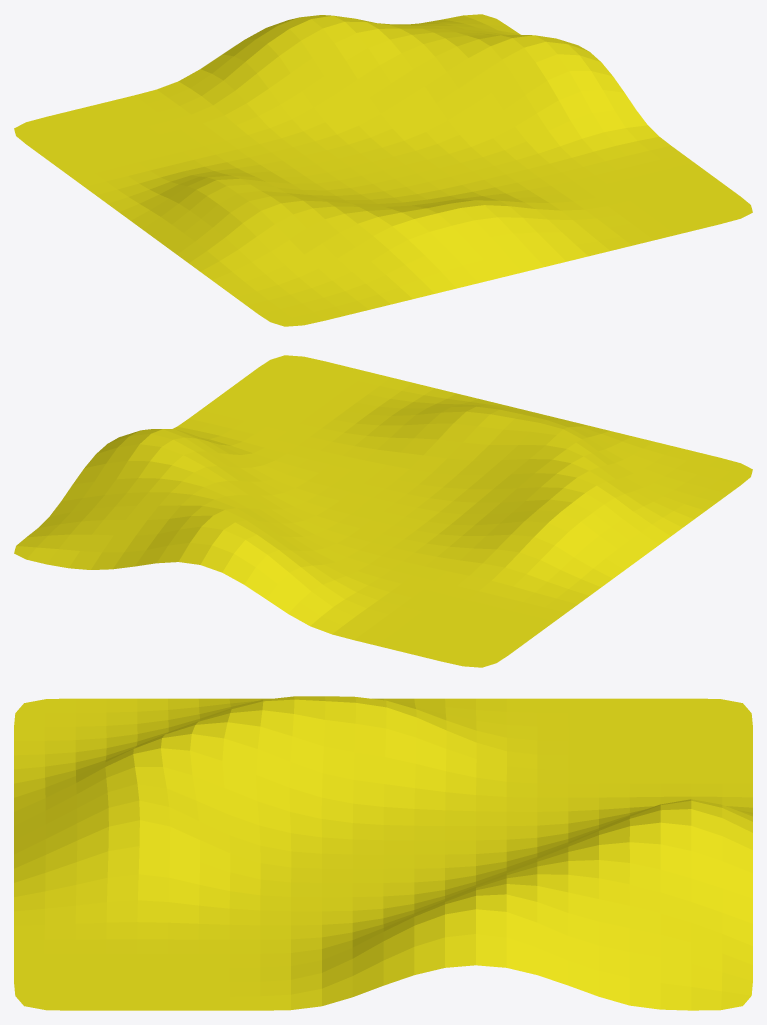
Rendered from dunes.fbx.
The picture shows the model from 3 angles, top to bottom: view 1: azimuth 30°, elevation 25°; view 2: azimuth 150°, elevation 25°; view 3: azimuth 270°, elevation 25°; orthographic projection. The views are drawn at different scales.
Visible parts, largest first — view 1: Plane; view 2: Plane; view 3: Plane.
Part boxes in pixels (left/top/right/bottom): Plane: left=14, top=14, right=752, bottom=326; Plane: left=14, top=355, right=752, bottom=667; Plane: left=14, top=696, right=752, bottom=1010.
Bounding box in the file's own units: 6082 × 677 × 6082.
